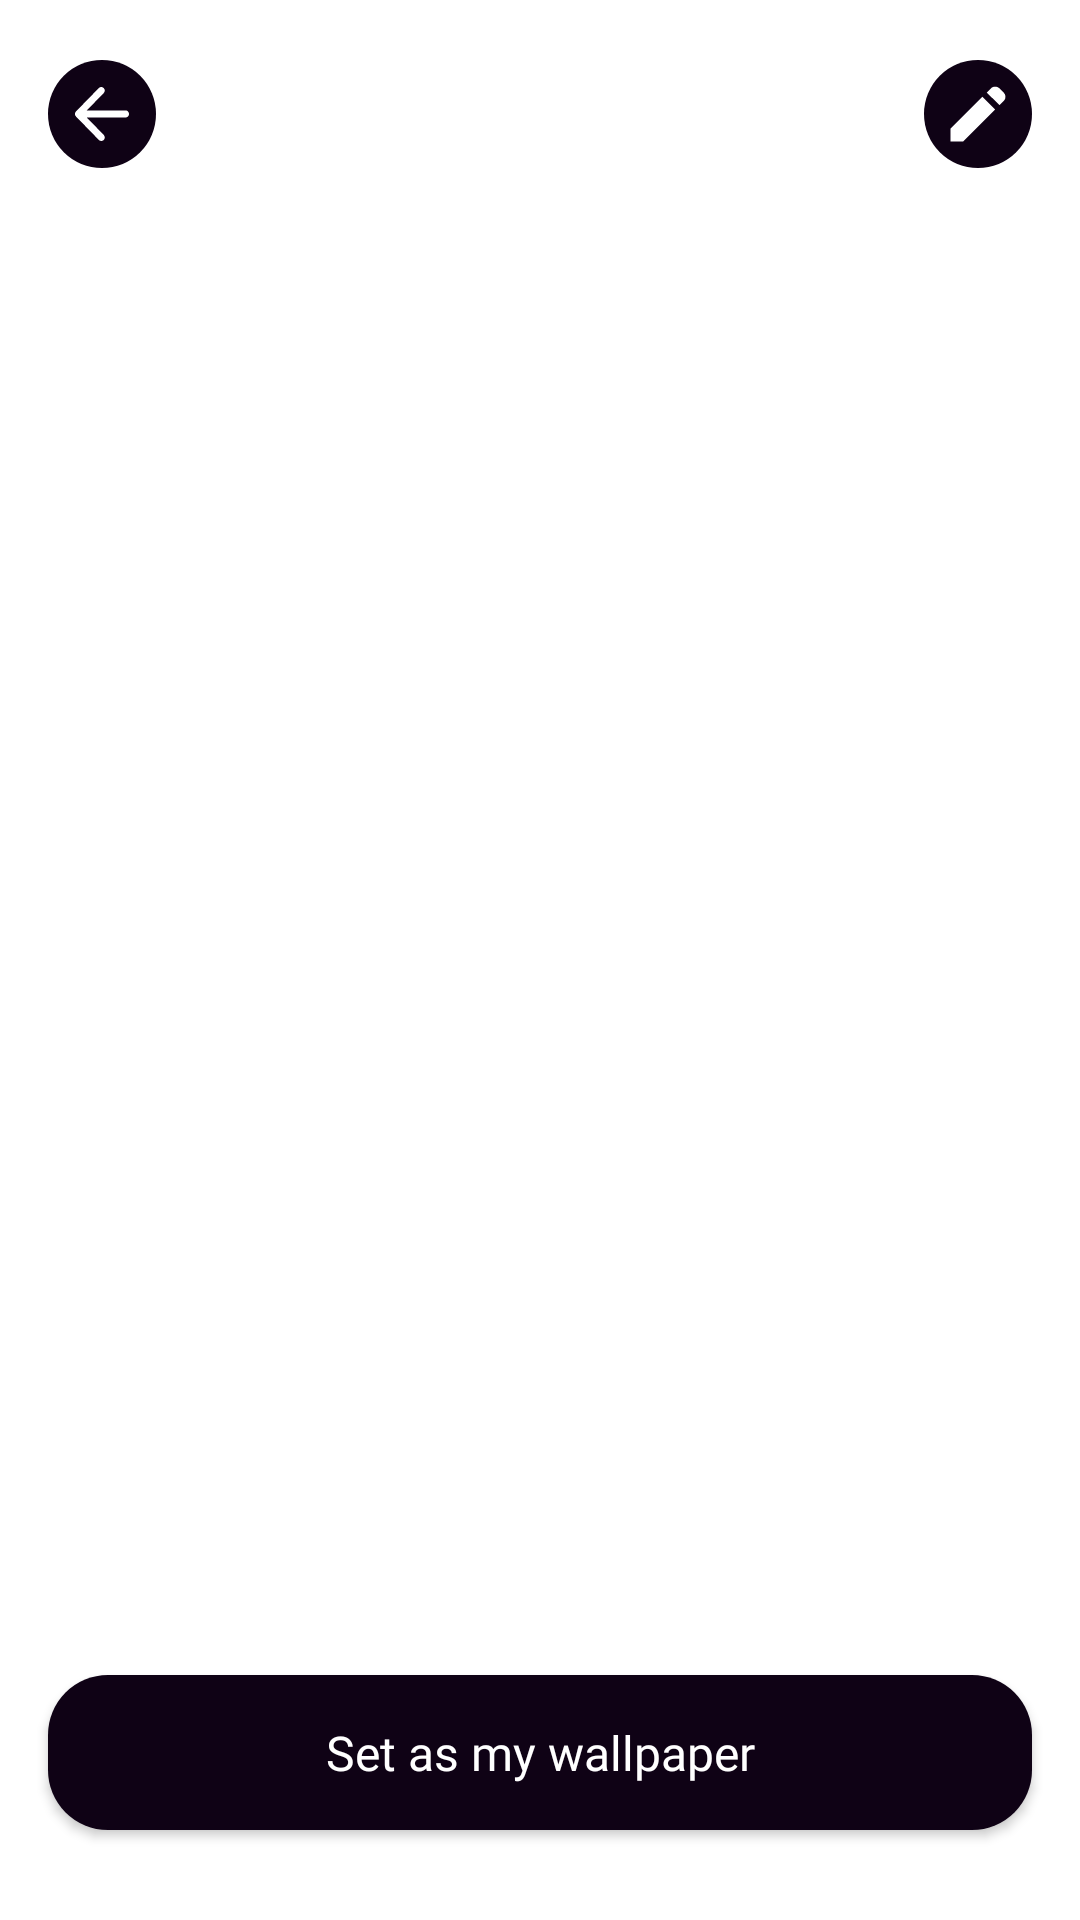

Point at icon controls on the screen. Image size 1080 × 1920, points as (x=x, y=y).
back: (x=102, y=114)
edit: (x=978, y=114)
